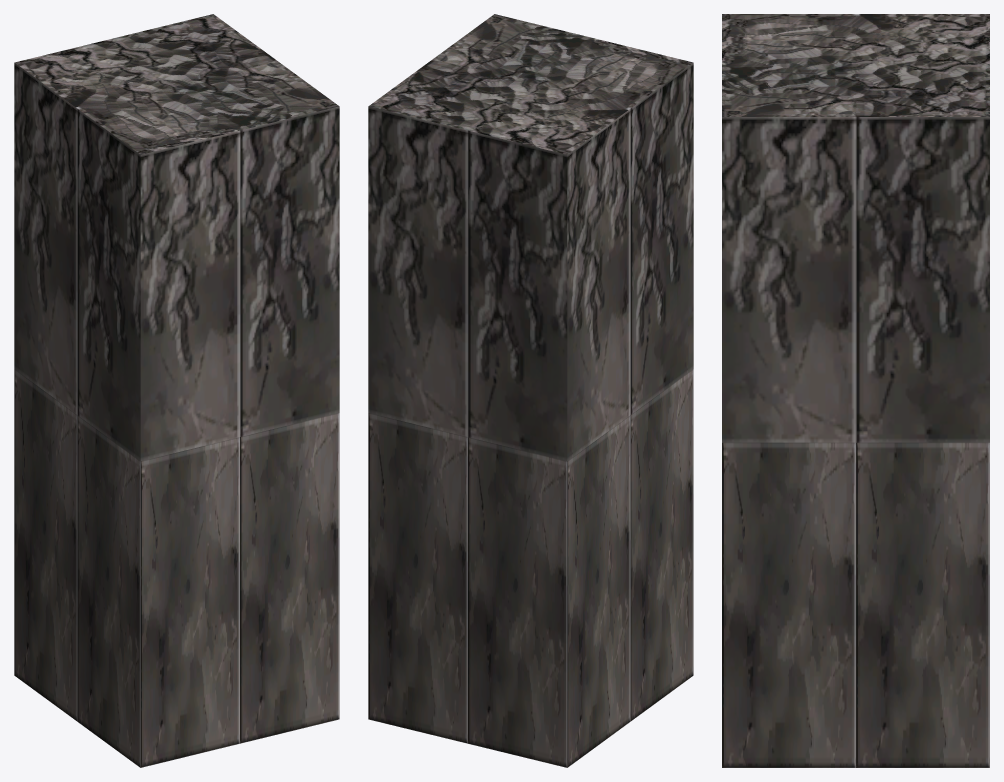
The model's file is INST_SM_DEBRIS_BLOCK_SMALLB.fbx.
3 renders of one model, left to right at view 1: azimuth 30°, elevation 25°; view 2: azimuth 150°, elevation 25°; view 3: azimuth 270°, elevation 25°, orthographic. The views are drawn at different scales.
Visible parts, largest first — view 1: INST_SM_DEBRIS_BLOCK_SMALLB; view 2: INST_SM_DEBRIS_BLOCK_SMALLB; view 3: INST_SM_DEBRIS_BLOCK_SMALLB.
Part boxes in pixels (left/top/right/bottom): INST_SM_DEBRIS_BLOCK_SMALLB: left=14, top=14, right=339, bottom=767; INST_SM_DEBRIS_BLOCK_SMALLB: left=368, top=14, right=693, bottom=767; INST_SM_DEBRIS_BLOCK_SMALLB: left=722, top=14, right=989, bottom=767.
Size of the model in its own units: 10020 by 29507 by 11004.
3 materials, 3 textured.
